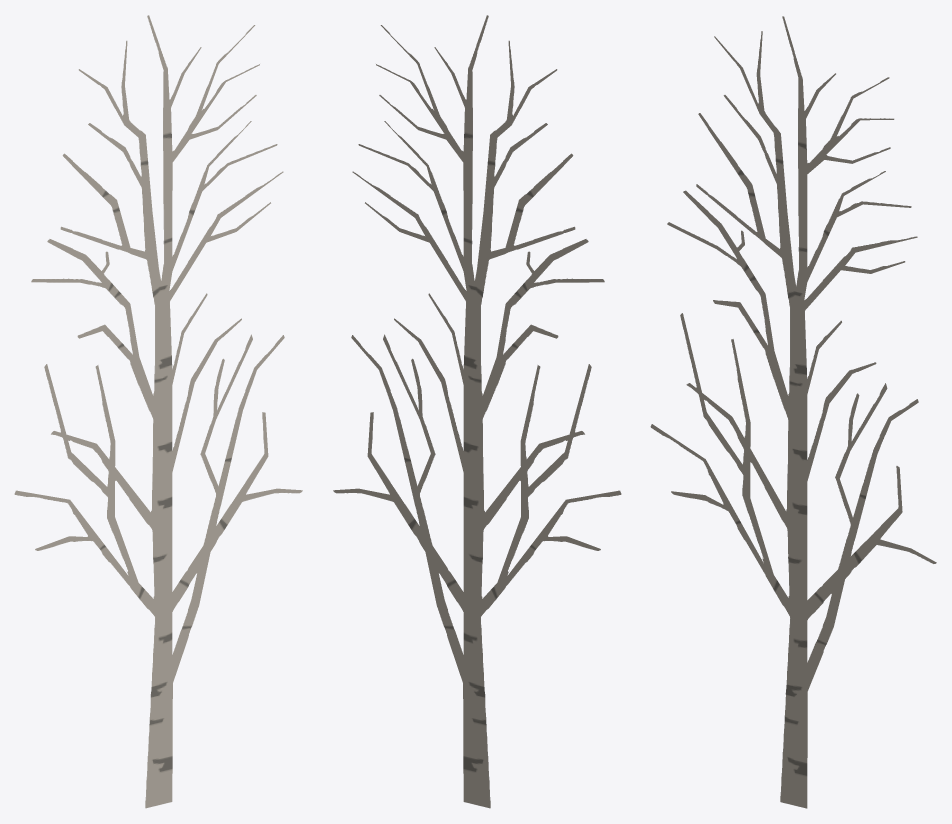
File: Birch_03.fbx
3 renders of one model, left to right at view 1: azimuth 30°, elevation 25°; view 2: azimuth 150°, elevation 25°; view 3: azimuth 330°, elevation 25°, orthographic.
Parts seen in each view (by area): view 1: nurbsToPoly1; view 2: nurbsToPoly1; view 3: nurbsToPoly1.
Part boxes in pixels (<box>): nurbsToPoly1: <box>14,15,302,808</box>; nurbsToPoly1: <box>333,15,621,808</box>; nurbsToPoly1: <box>650,16,936,808</box>.
Bounding box in the file's own units: 9.05 × 23.74 × 1.11e-15.
Materials: 1 (1 with a texture image).
